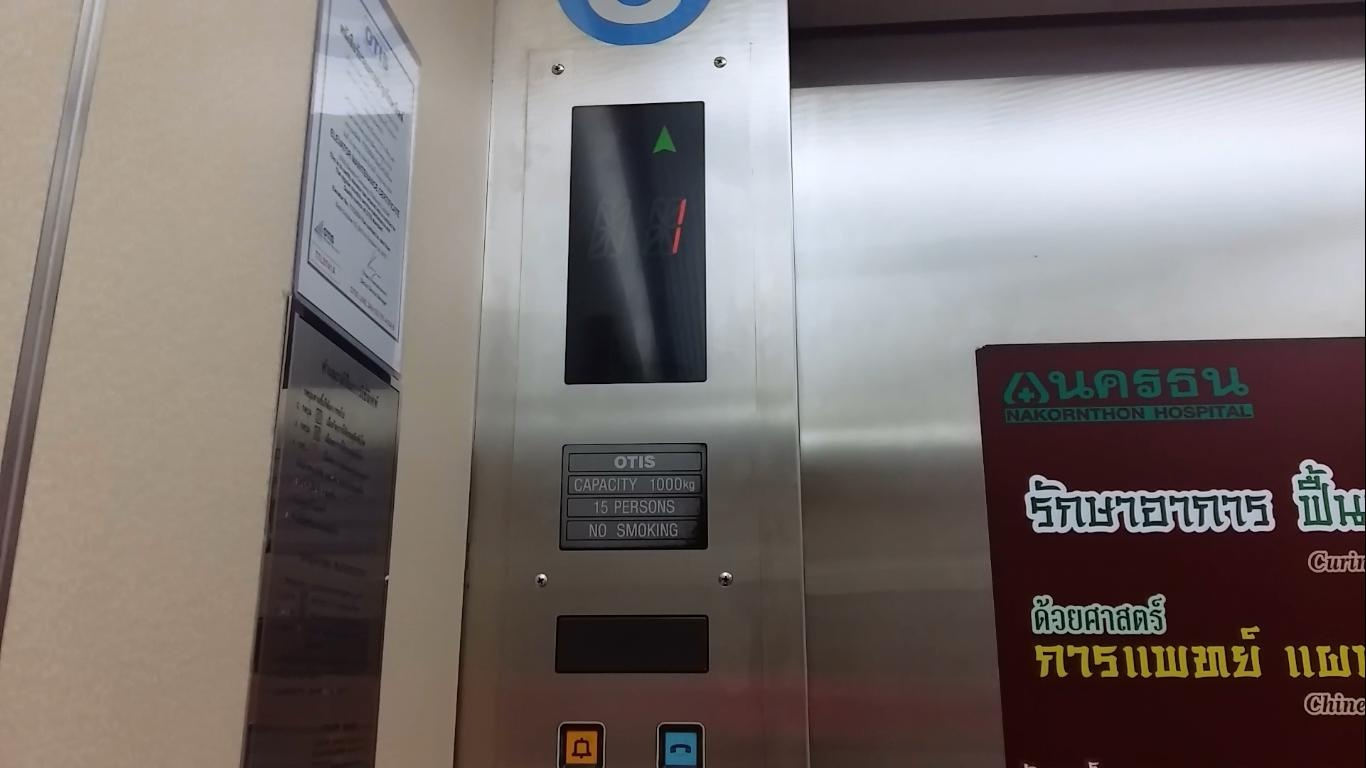alarm: (553, 718, 608, 768)
call: (653, 718, 708, 768)
led: (560, 97, 711, 391), (550, 606, 715, 677)
